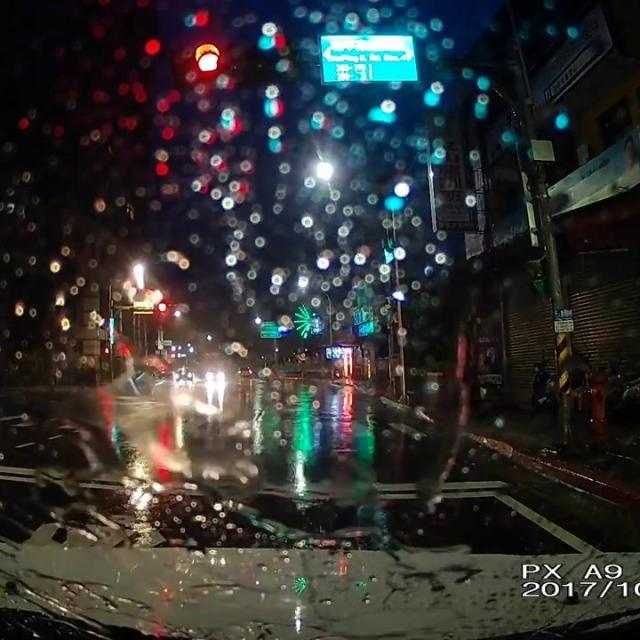Car: (171, 364, 193, 382), (234, 364, 250, 376)
